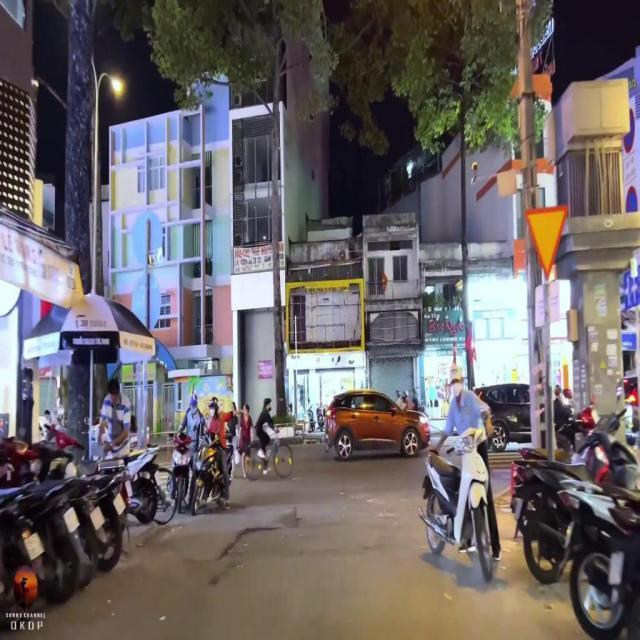208-giao-nhau-voi-duong-uu-tien: (522, 206, 567, 282)
